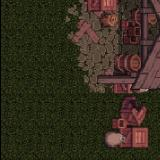Hide: (50, 0, 110, 44)
Obstacle: (69, 0, 160, 93), (93, 94, 159, 158)
